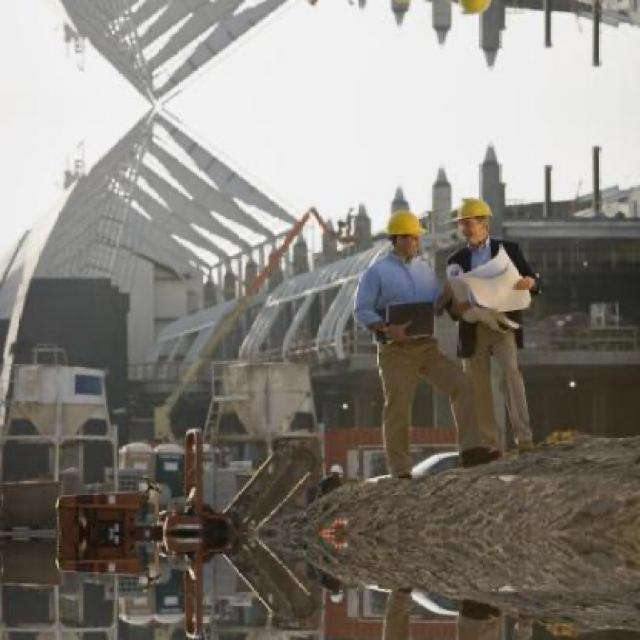helmet: (383, 203, 429, 260), (454, 191, 497, 247), (452, 0, 497, 23)
